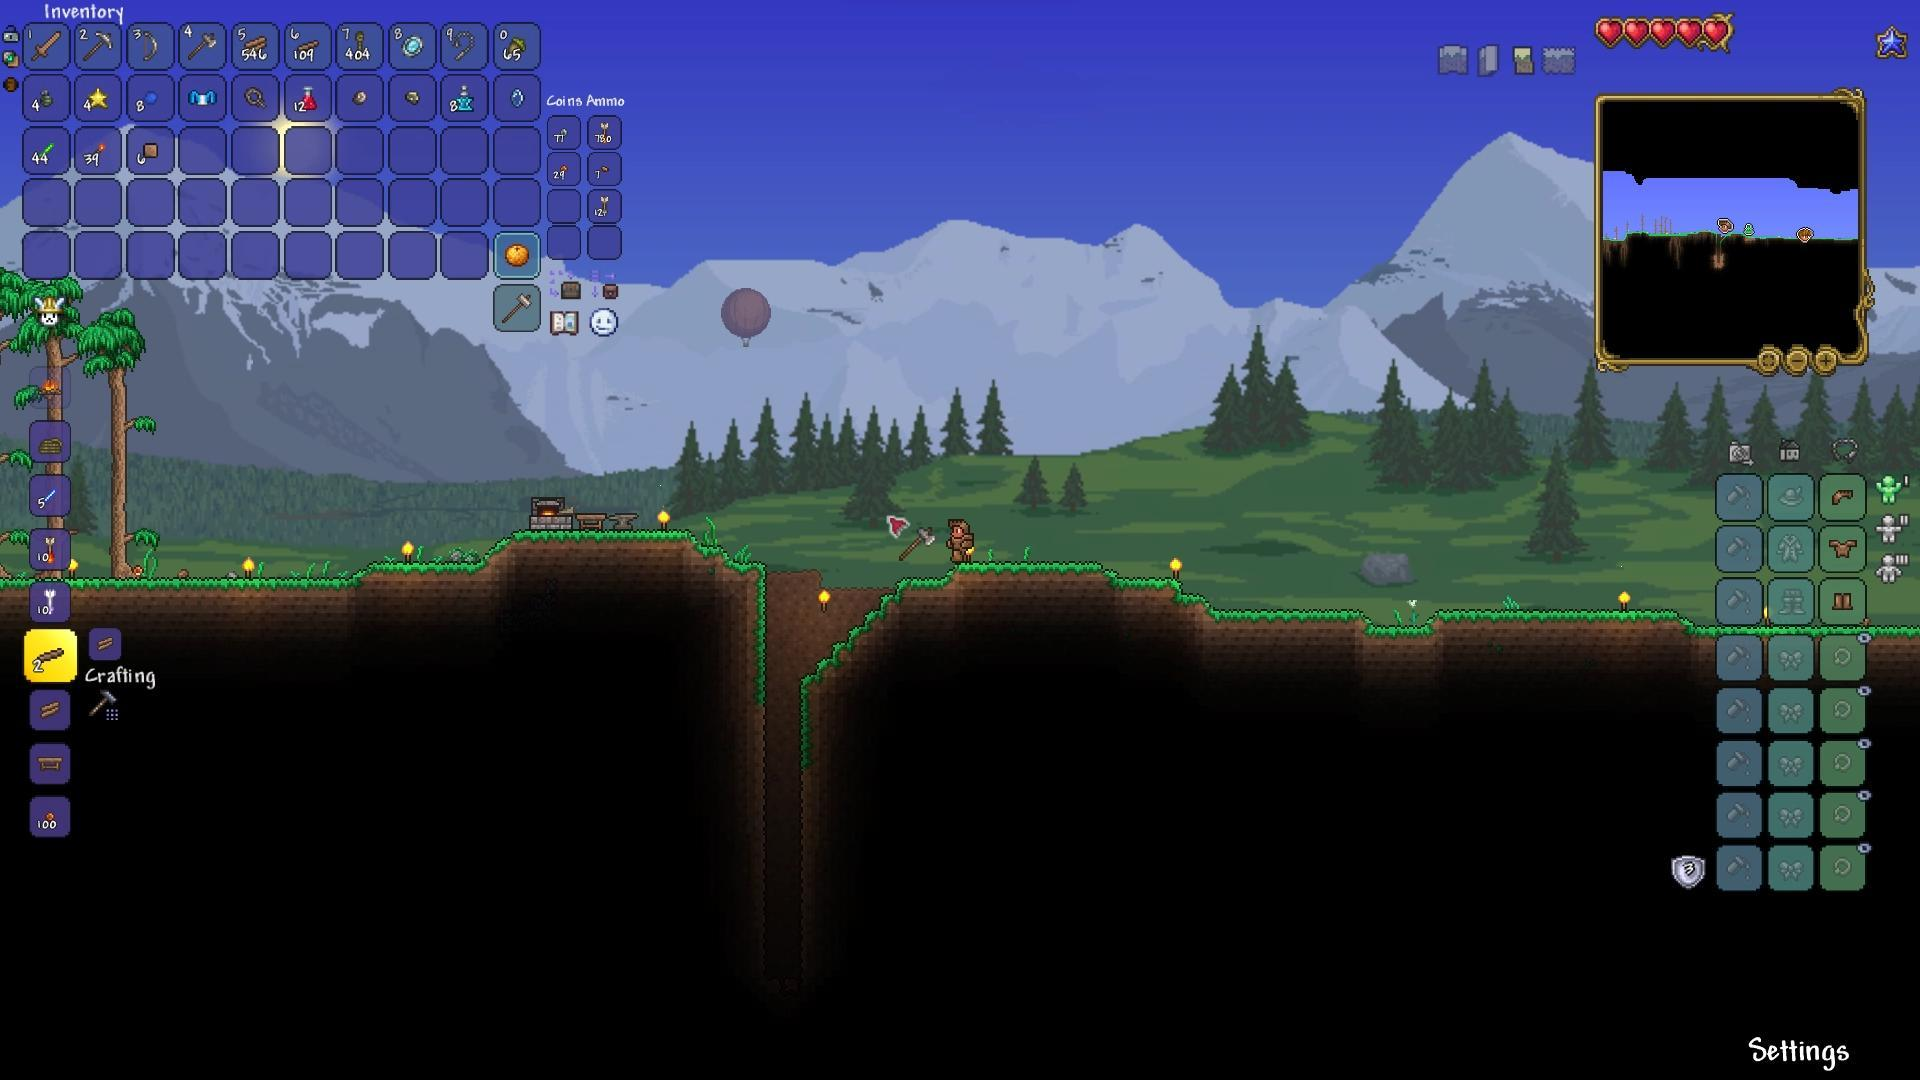anvil: (611, 508, 640, 530)
furnace: (525, 495, 579, 538)
glowstick: (36, 137, 62, 164)
grenade: (33, 84, 57, 109)
potion: (295, 84, 319, 116)
recallP: (450, 79, 473, 115)
star: (80, 83, 109, 112)
